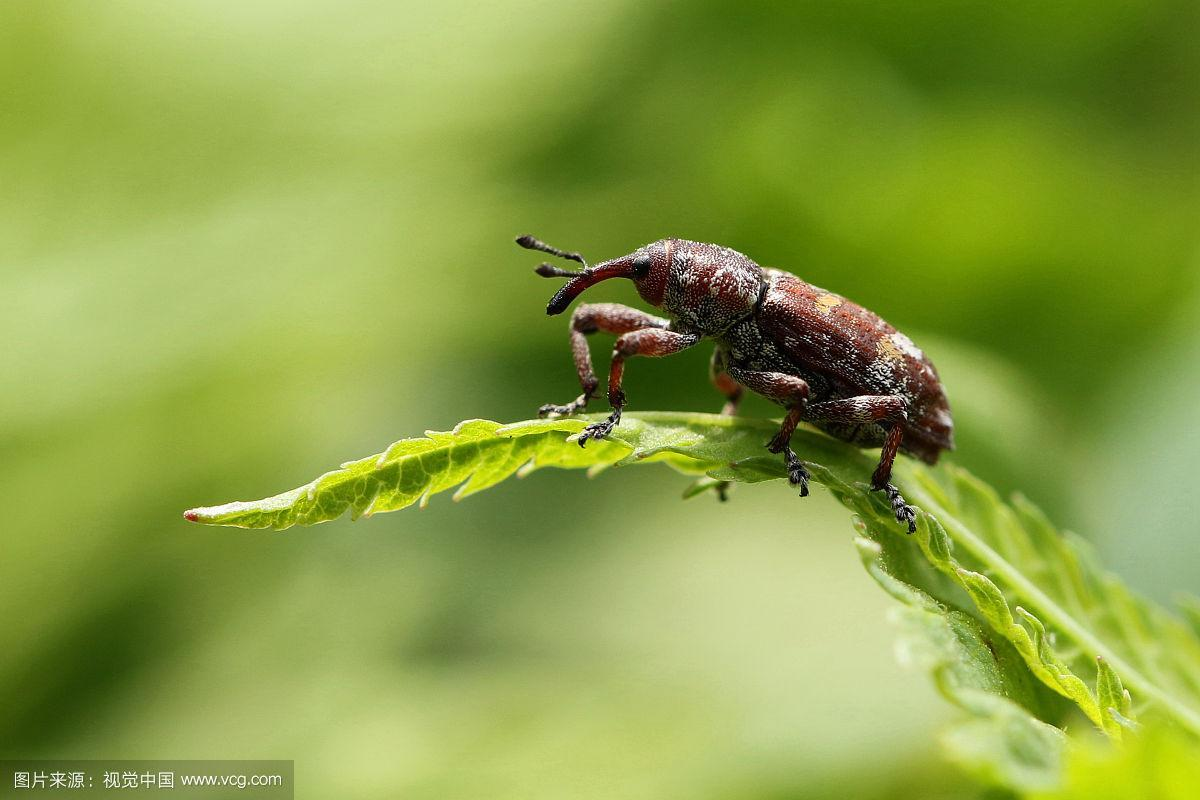Curculionidae: (514, 230, 954, 536)
